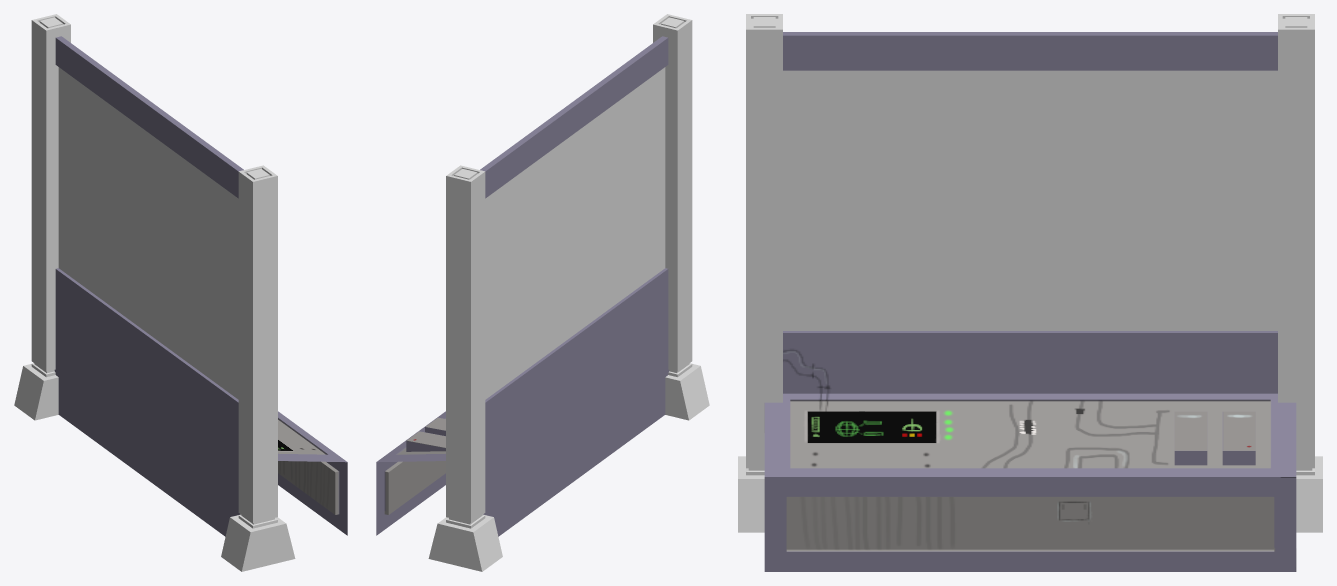
The model's file is wallcontrolRoom01.fbx.
The picture shows the model from 3 angles, left to right: view 1: azimuth 30°, elevation 25°; view 2: azimuth 150°, elevation 25°; view 3: azimuth 270°, elevation 25°; orthographic projection. The views are drawn at different scales.
Parts seen in each view (by area): view 1: wall, Glass, pillar; view 2: wall, Glass, pillar; view 3: wall, Glass, pillar.
Boxes of the visible parts, x1,y1,x2,y2 form: wall: (54, 36, 347, 536); Glass: (58, 67, 238, 399); pillar: (14, 14, 295, 571); wall: (376, 36, 669, 536); Glass: (485, 67, 665, 399); pillar: (428, 14, 709, 571); wall: (764, 32, 1296, 571); Glass: (783, 70, 1277, 330); pillar: (738, 14, 1322, 532).
Bounding box in the file's own units: 1.3 × 4.1 × 4.4.
Materials: 1 (1 with a texture image).
